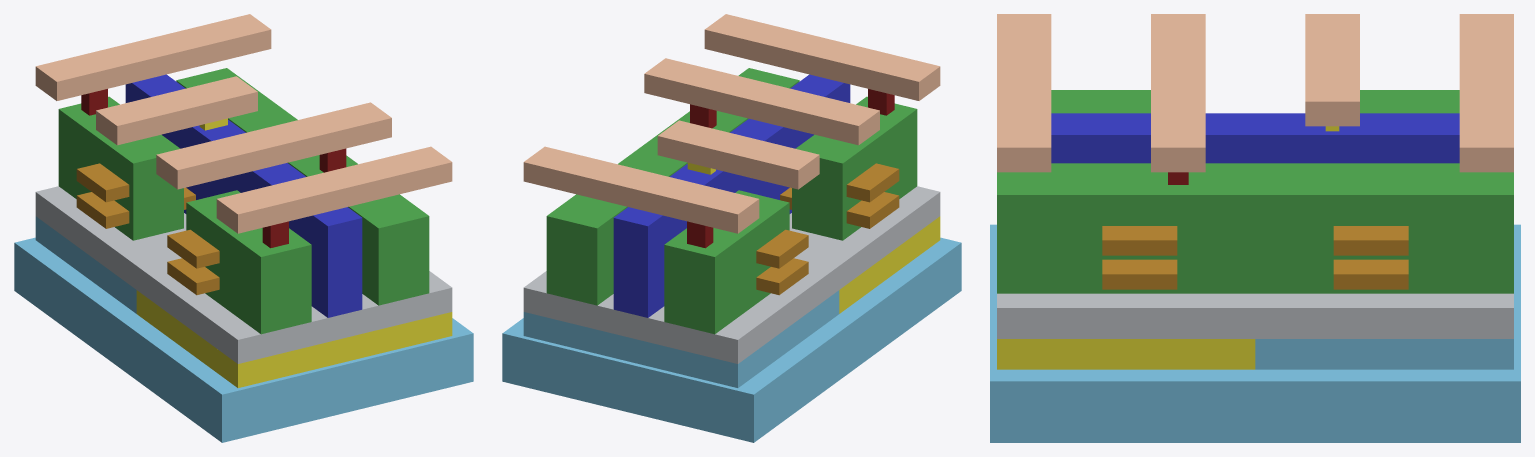
The model's file is show_ns.obj.
The picture shows the model from 3 angles, left to right: view 1: azimuth 30°, elevation 25°; view 2: azimuth 150°, elevation 25°; view 3: azimuth 270°, elevation 25°; orthographic projection. The views are drawn at different scales.
Parts seen in each view (by area): view 1: pwell, fox, md_vdd, po, md_out, m0_vdd, m0_gnd, m0_out, md_gnd, nwell, m0_in, pwell_u (+7 smaller); view 2: pwell, fox, md_gnd, po, md_out, m0_gnd, m0_vdd, m0_out, md_vdd, pwell_u, m0_in, nwell (+7 smaller); view 3: md_out, pwell, fox, po, m0_out, m0_gnd, m0_vdd, pwell_u, nwell, m0_in, md_gnd, md_vdd (+4 smaller).
Boxes of the visible parts, x1,y1,x2,y2 form: pwell: (14,237,473,442); fox: (35,186,452,363); md_vdd: (186,190,311,334); po: (125,74,362,317); md_out: (176,68,429,305); m0_vdd: (216,146,452,233); m0_gnd: (35,14,271,100); m0_out: (156,102,391,189); md_gnd: (58,96,183,240); nwell: (136,290,452,387); m0_in: (96,76,257,145); pwell_u: (35,216,136,313); pwell: (502,237,961,442); fox: (523,186,940,363); md_gnd: (664,190,789,334); po: (613,74,850,317); md_out: (546,68,799,305); m0_gnd: (523,146,759,233); m0_vdd: (704,14,940,100); m0_out: (644,58,879,145); md_vdd: (792,96,917,240); pwell_u: (523,290,839,387); m0_in: (657,120,819,189); nwell: (839,216,940,313); md_out: (997,163,1513,293); pwell: (990,224,1520,442); fox: (997,293,1513,338); po: (1051,113,1459,163); m0_out: (1151,14,1205,172); m0_gnd: (1459,14,1513,172); m0_vdd: (997,14,1051,172); pwell_u: (1255,339,1513,369); nwell: (997,339,1255,369); m0_in: (1305,14,1359,126); md_gnd: (1360,90,1459,113); md_vdd: (1051,90,1150,113).
Bounding box in the file's own units: 109 × 92 × 156.
